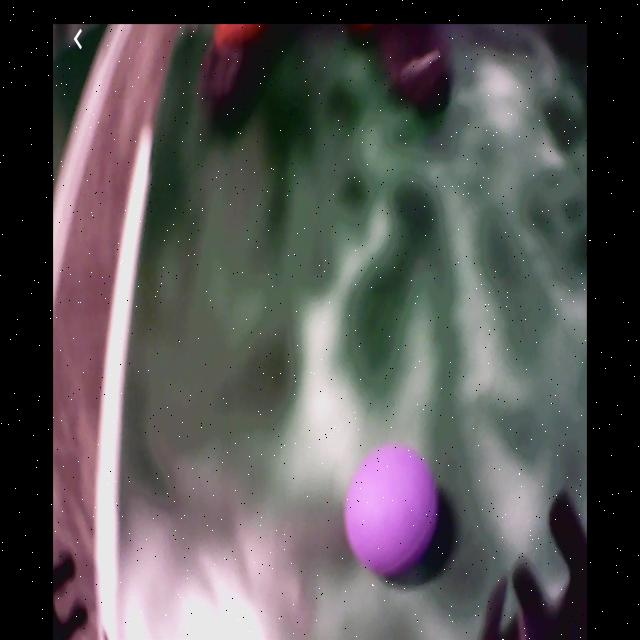ball: (341, 445, 440, 576)
